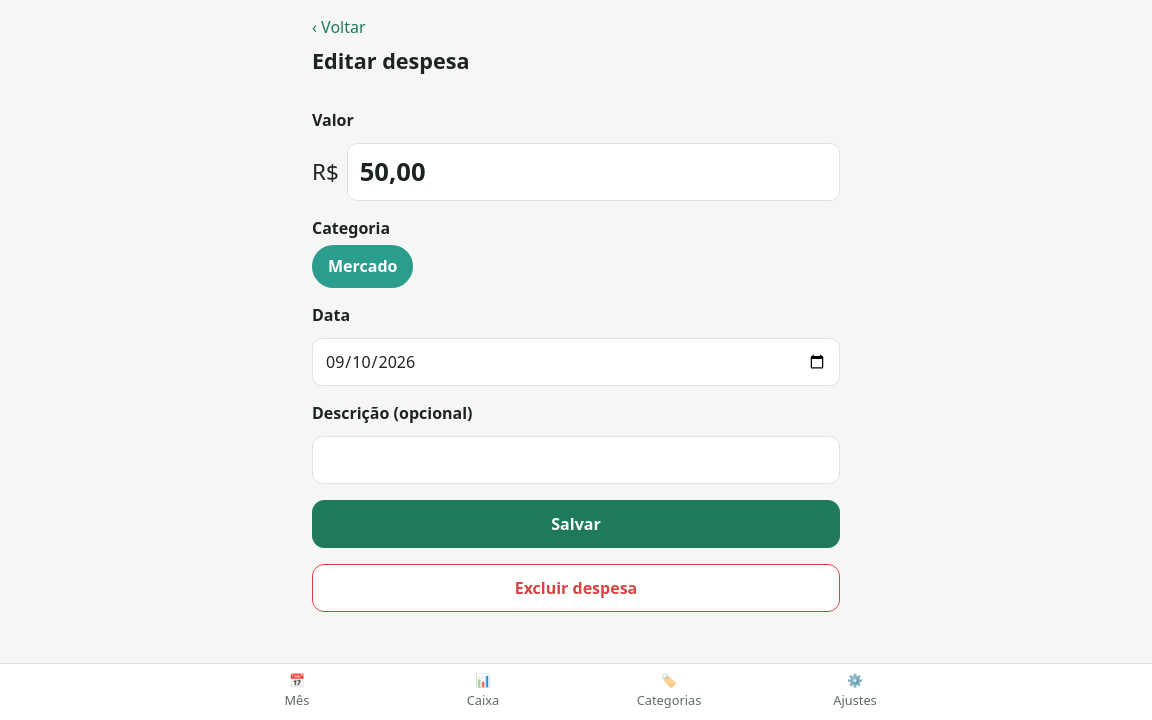
Test: despesa › avisa quando não consegue excluir e permite tentar de novo
This screenshot has width=1152, height=720.
Click the button "Excluir despesa": (576, 588) [312,564,840,612]
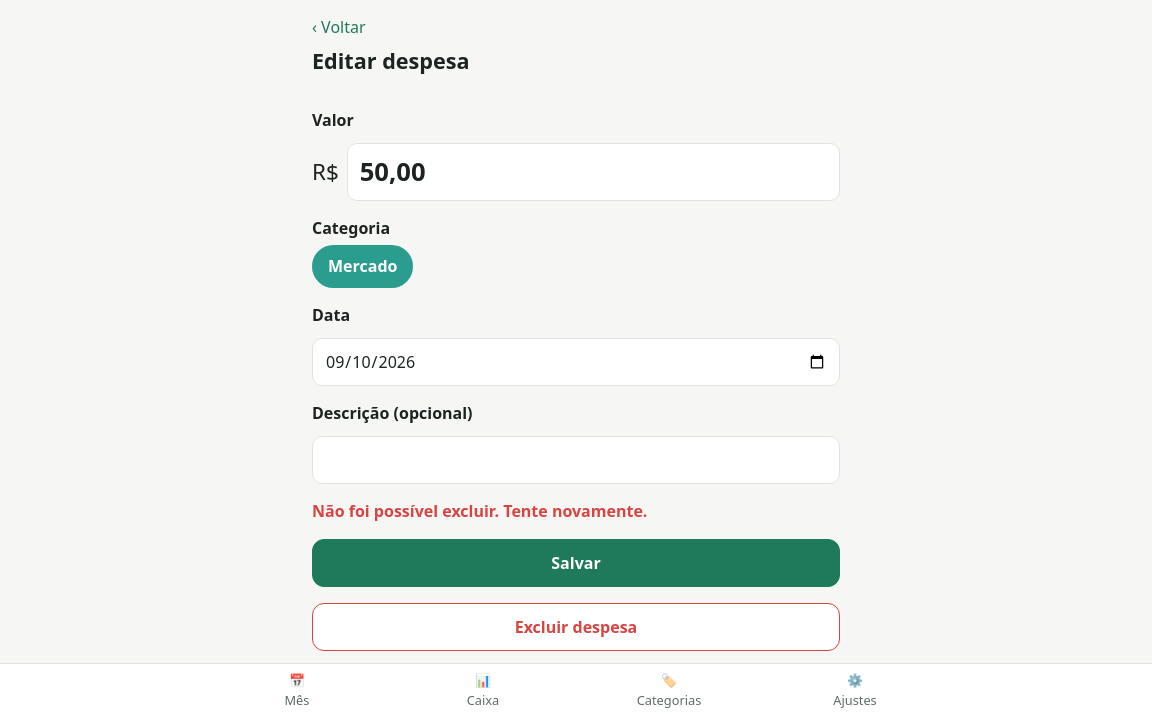
Expected: the button "Excluir despesa" is enabled, [312,603,840,651]
Result: the message shows "Não foi possível excluir" at [312,500,647,522]
